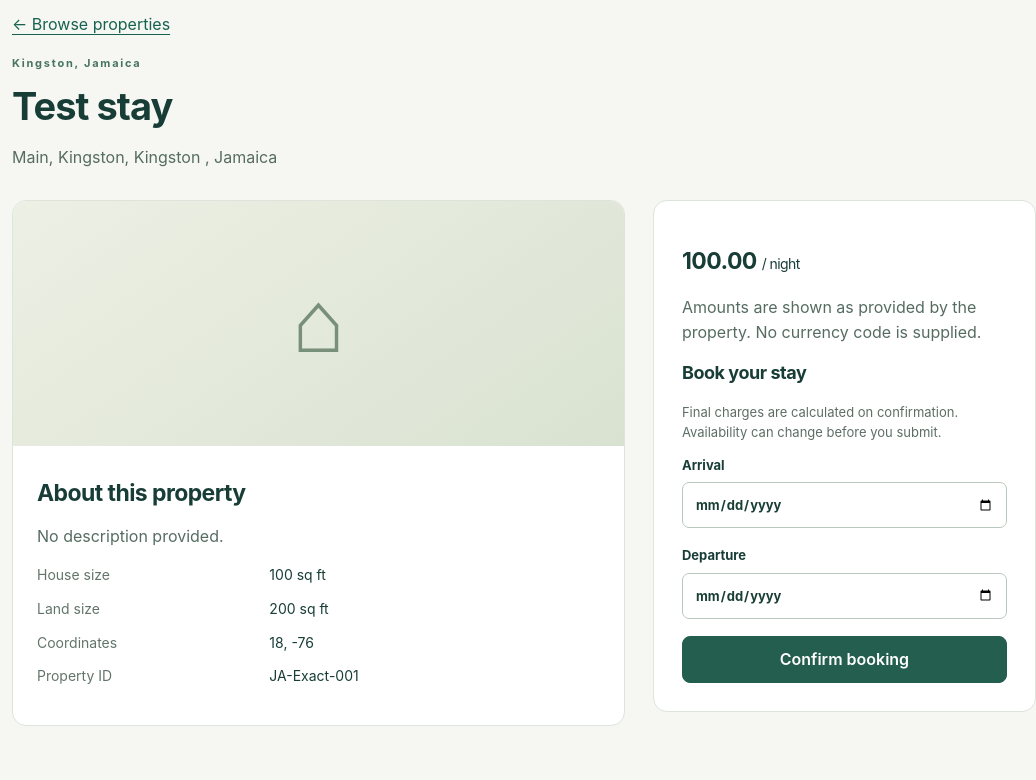
prevents immediate resubmission after an ambiguous network failure
Expected: the heading "Book your stay" is shown, [682,362,806,383]
Step 1. Type "2030-01-03" into the date field labelled "Arrival" → (844, 505), box [682,482,1007,528]
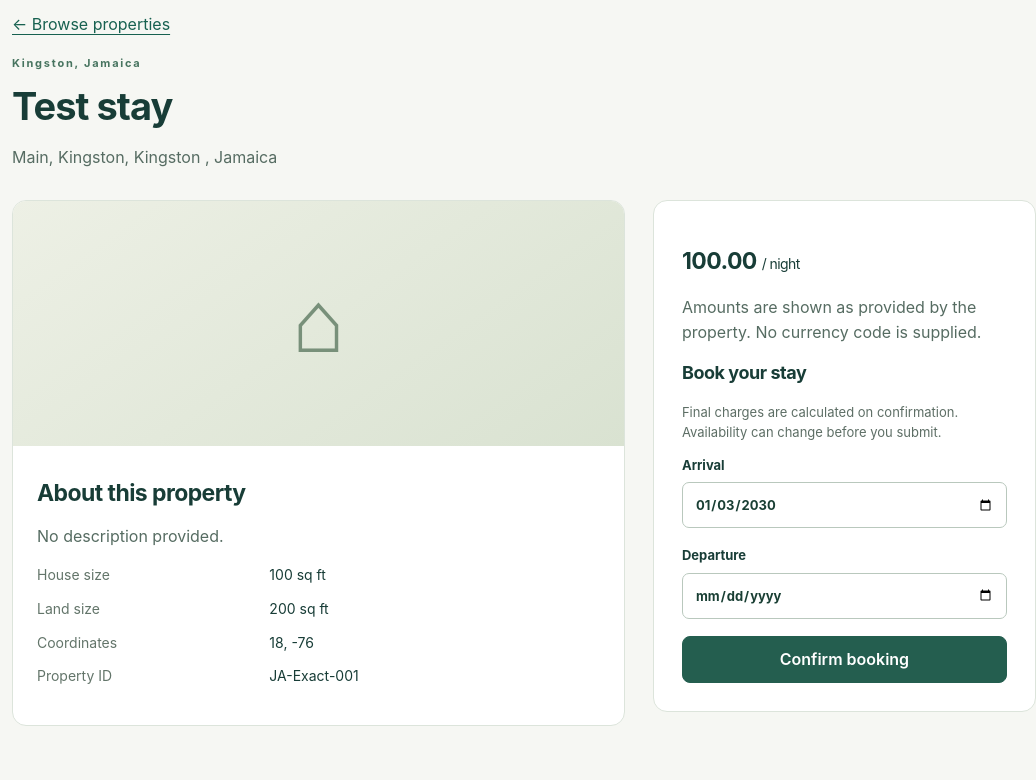
Step 2. Type "2030-01-05" into the date field labelled "Departure" → (844, 596), box [682,573,1007,619]
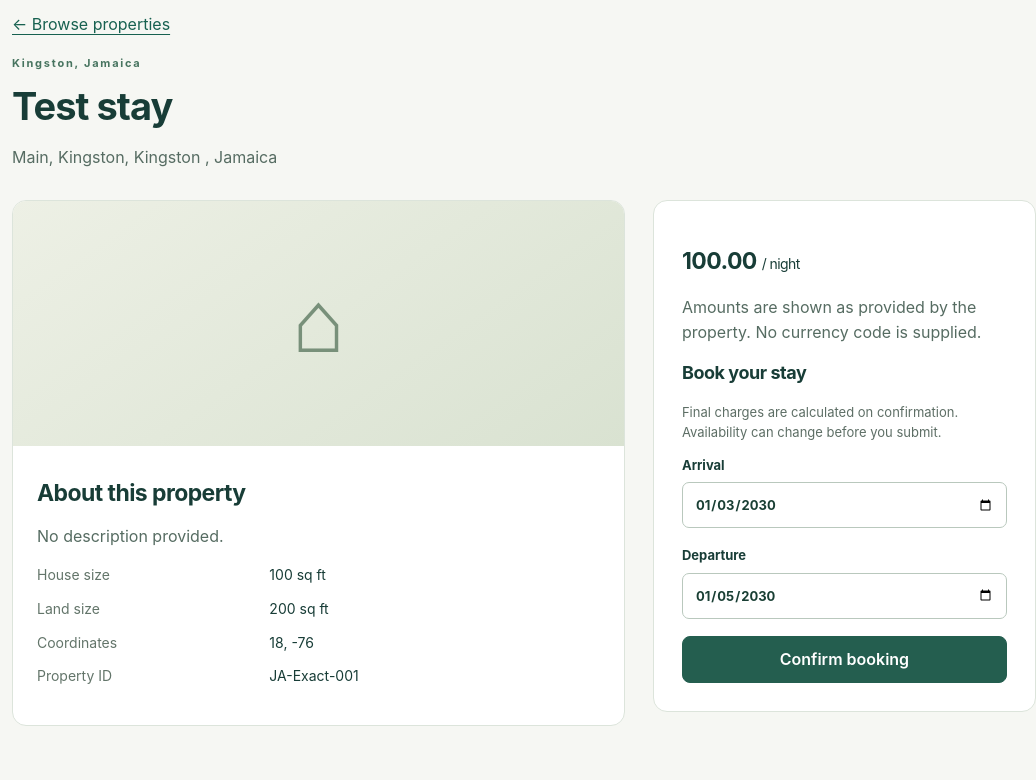
Step 3. Click the button "Confirm booking" → (844, 659), box [682,636,1007,683]
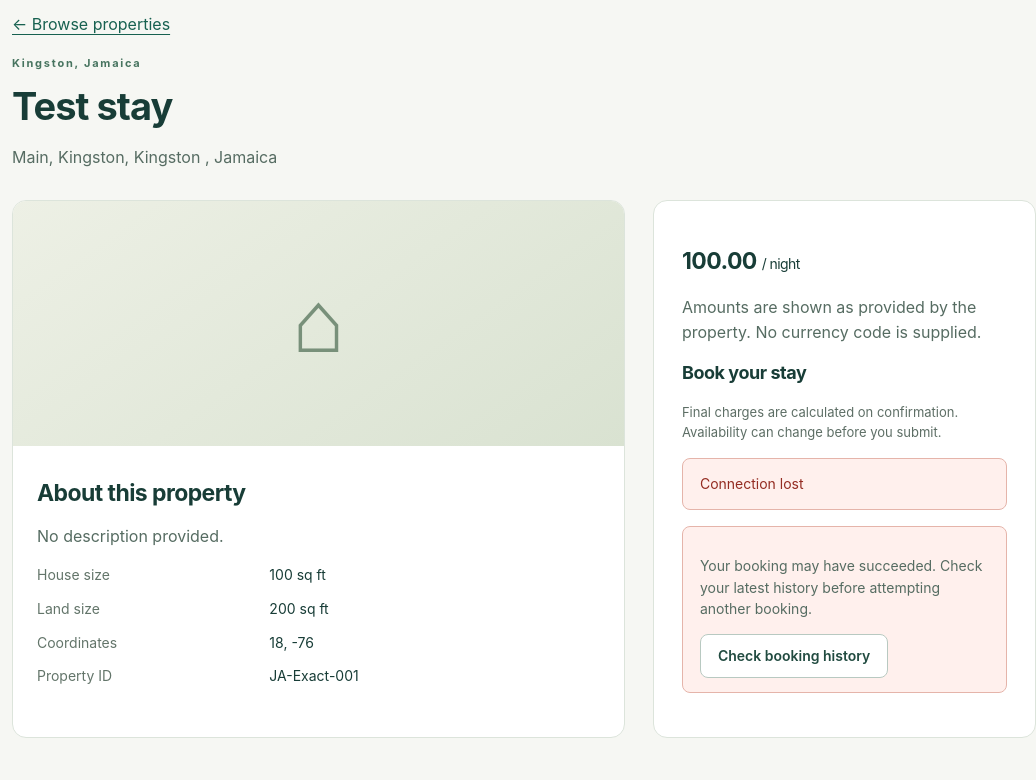
Result: the link "Check booking history" is shown at [700,634,888,678]
Result: the button "Confirm booking" is gone
